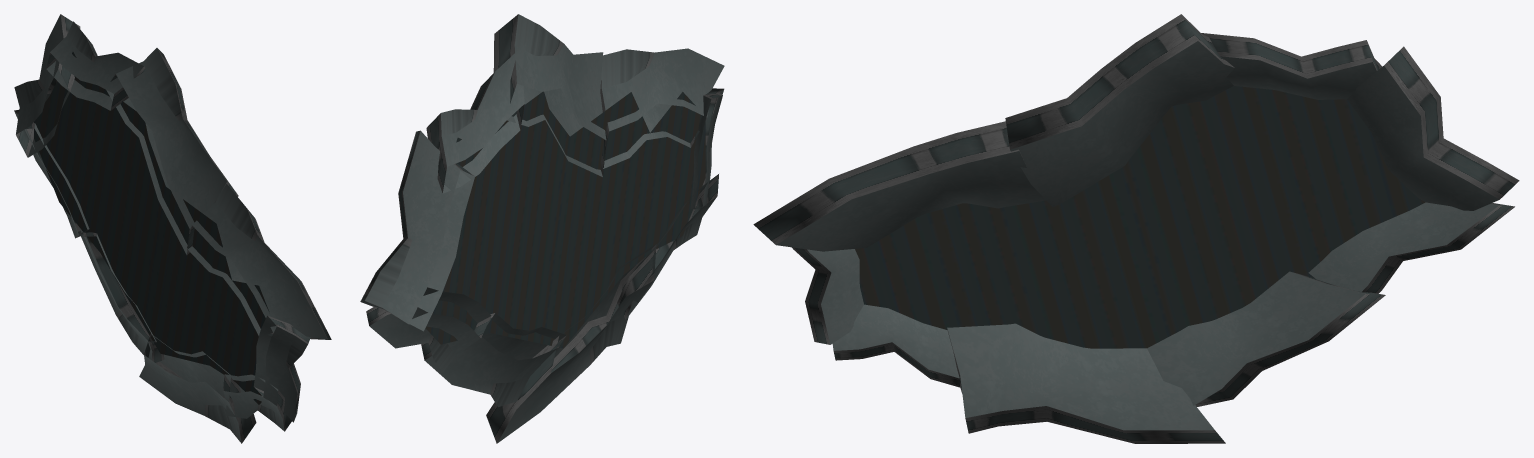
File: mdlCLHoleLarge.fbx
The picture shows the model from 3 angles, left to right: view 1: azimuth 30°, elevation 25°; view 2: azimuth 150°, elevation 25°; view 3: azimuth 270°, elevation 25°; orthographic projection. The views are drawn at different scales.
Parts seen in each view (by area): view 1: HoleBig; view 2: HoleBig; view 3: HoleBig.
Part boxes in pixels (<box>): HoleBig: <box>14,14,331,443</box>; HoleBig: <box>360,14,724,443</box>; HoleBig: <box>753,14,1519,443</box>.
Bounding box in the file's own units: 271 × 2283 × 3688.
